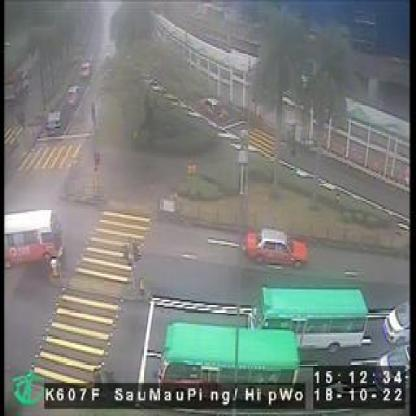Bus: (5, 211, 64, 268)
Car: (244, 224, 309, 270), (382, 299, 411, 346), (46, 106, 64, 132), (66, 83, 80, 105), (80, 61, 92, 80)
Minibus: (159, 322, 300, 388), (247, 288, 370, 352)
